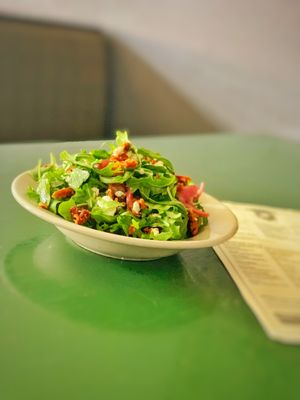sushi: (11, 140, 240, 261)
